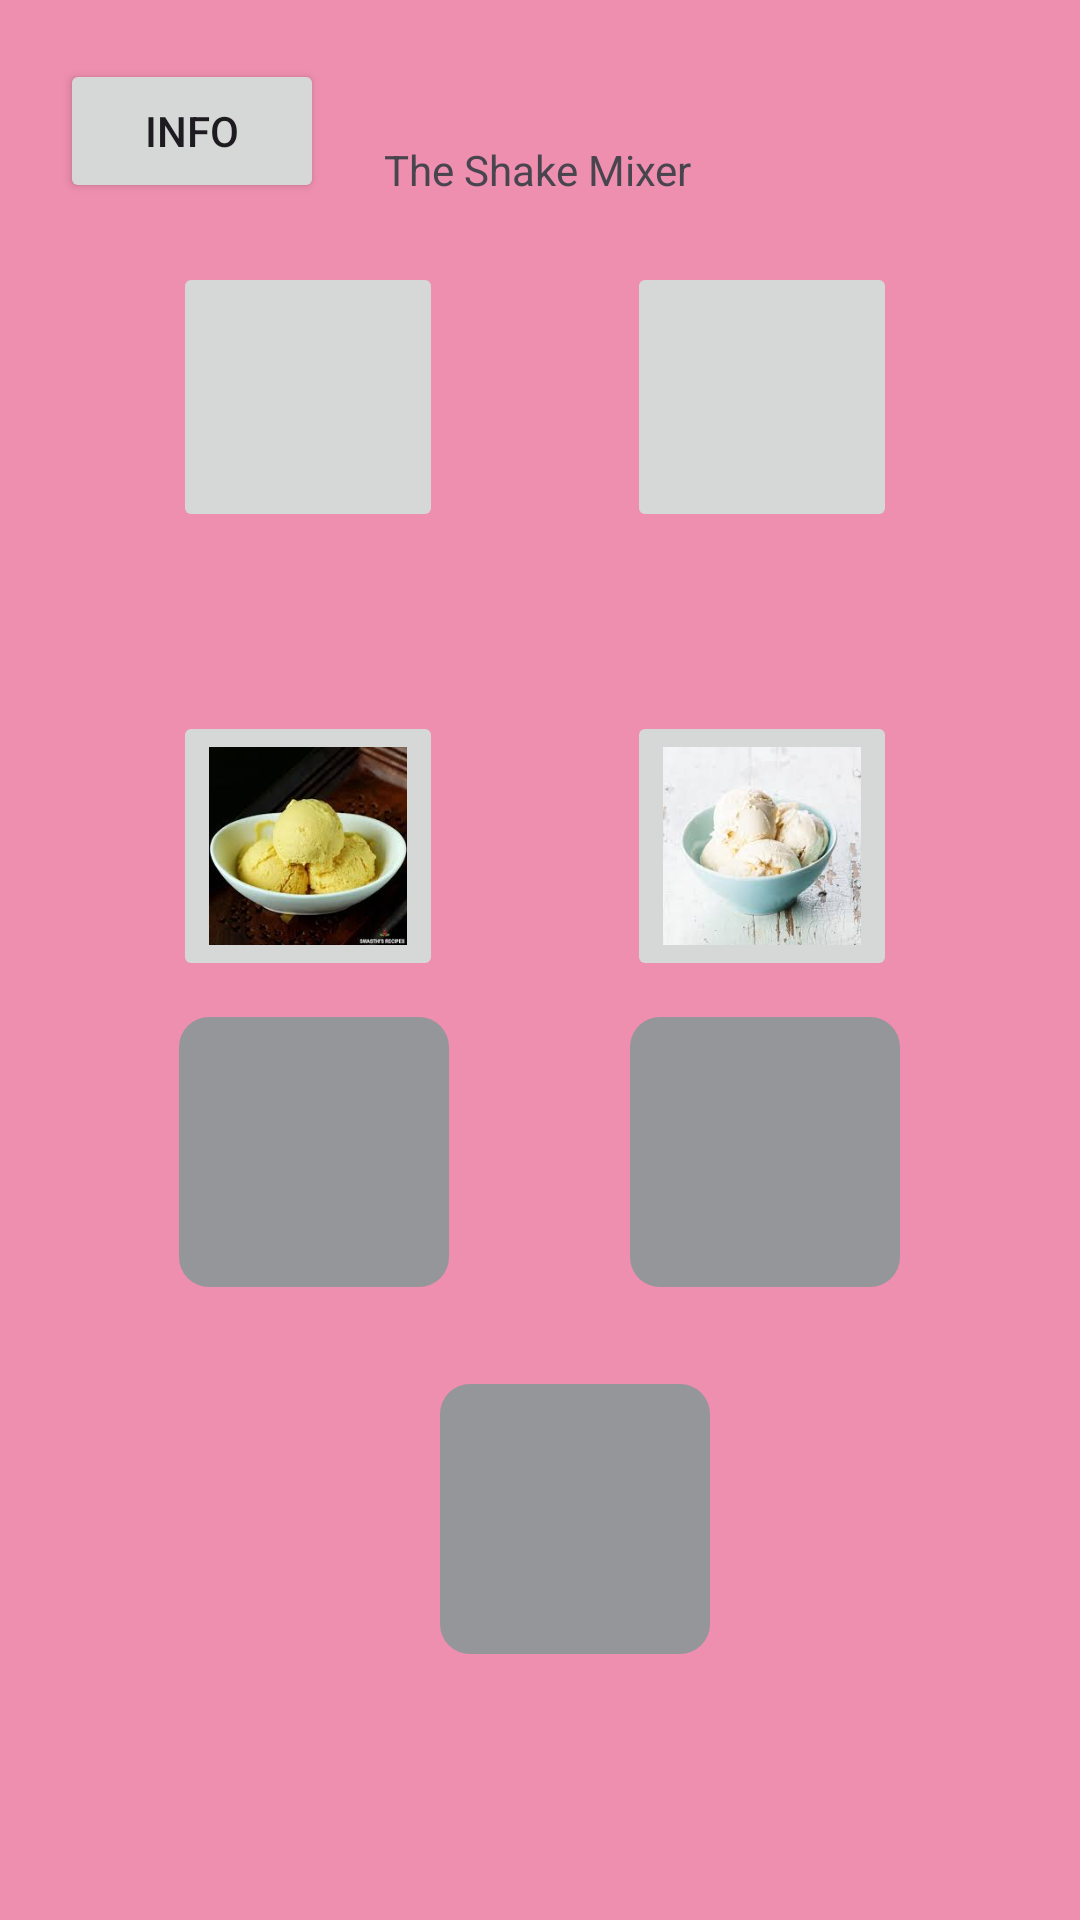

Screen size 1080 × 1920. Icon name, then its box in pixels as (x1, y1, x2, y2):
mangoice: (185, 729, 431, 963)
vanilaicecream: (639, 729, 885, 963)
